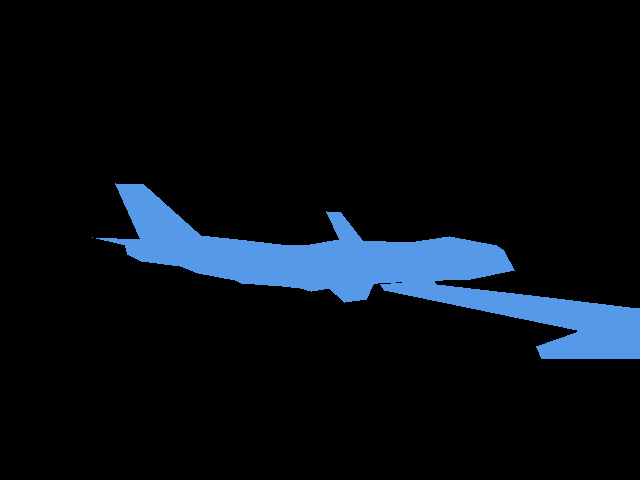Airplane: (92, 183, 514, 302), (380, 280, 640, 358)
